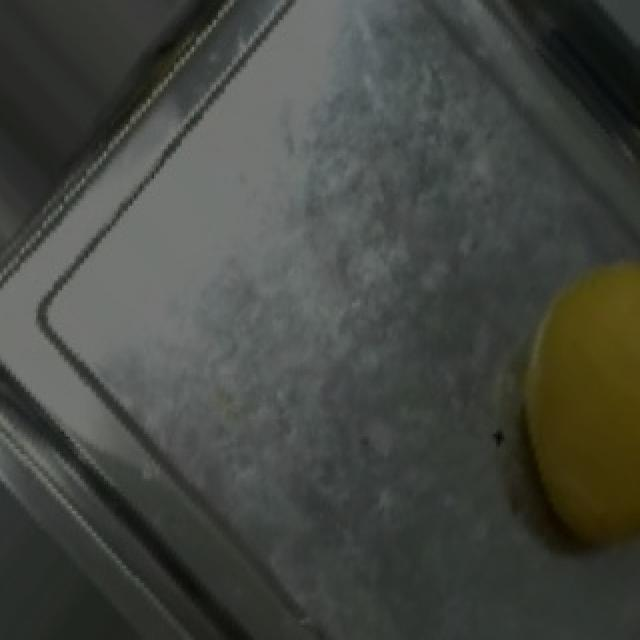fruit: (480, 211, 640, 570)
